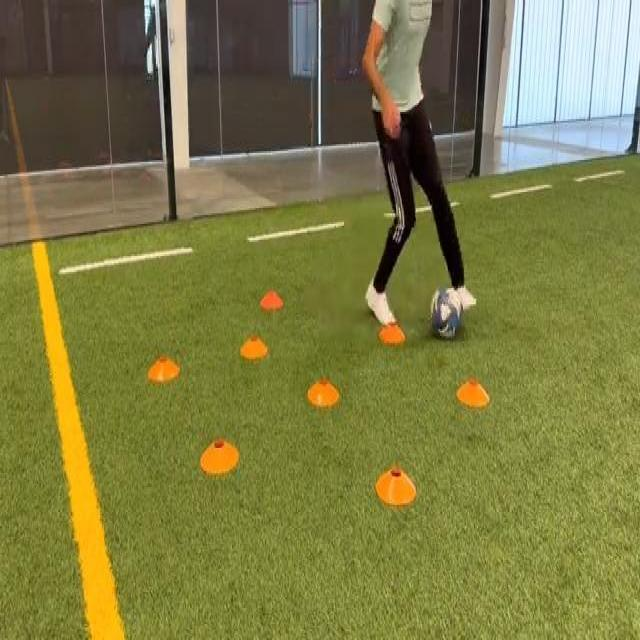Soccer Ball: (431, 286, 462, 336)
